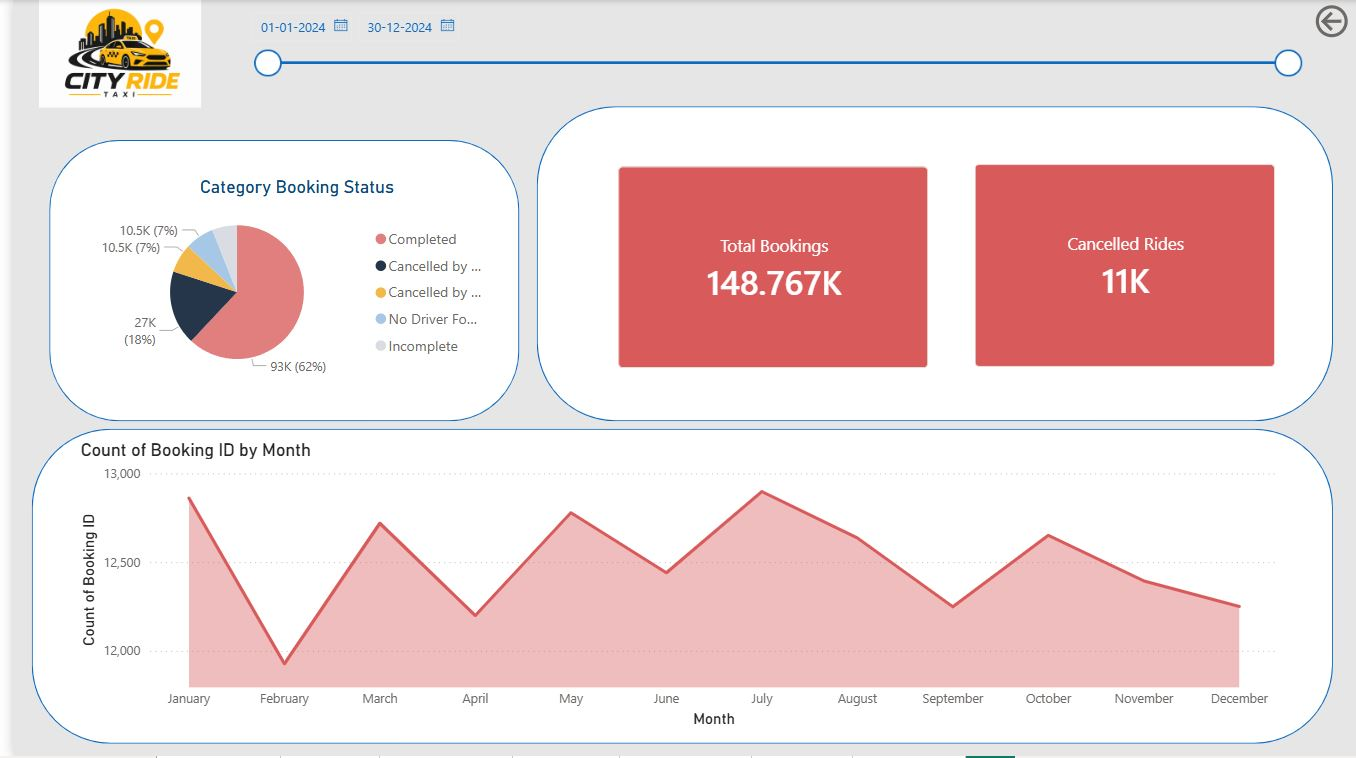

Layout of this report page (visuals, bound fields, positions):
{"tool":"powerbi","page":{"name":"Overall","canvas":[1280,720],"ordinal":1},"visuals":[{"type":"shape","box":[17.9,408.3,1239.3,300],"z":0},{"type":"shape","box":[498.8,101.2,758.3,300],"z":1000},{"type":"shape","box":[34.5,133.3,447.6,267.9],"z":2000},{"type":"pieChart","title":"Category Booking Status","fields":{"Category":["rideBookings.Booking Status"],"Y":["CountNonNull(rideBookings.Booking Status)"]},"box":[66.7,158.3,406,220.2],"z":3000},{"type":"areaChart","fields":{"Category":["rideBookings.Date.Variation.Date Hierarchy.Month"],"Y":["CountNonNull(rideBookings.Booking ID)"]},"box":[59.5,417.9,1150,279.8],"z":4000},{"type":"cardVisual","fields":{"Data":["Count(rideBookings.Booking ID)"]},"box":[559.5,141.7,329.8,226.2],"z":5000},{"type":"slicer","fields":{"Values":["rideBookings.Date"]},"box":[214.3,0,1021.4,102.4],"z":6000},{"type":"image","box":[2.4,0,199.1,102.5],"z":7000},{"type":"cardVisual","fields":{"Data":["Sum(rideBookings.Cancelled Rides by Customer)"]},"box":[897.6,138.1,322.6,229.8],"z":8000},{"type":"actionButton","box":[1235.7,0,44,40.5],"z":9000}]}

Visuals, with their boxes in screenshot pixels (x1, y1, x2, y2), scaled from the page's 1280x720 canvas onto the 1356x758 screenshot:
shape: box(19, 430, 1332, 746)
shape: box(528, 107, 1332, 422)
shape: box(37, 140, 511, 422)
"Category Booking Status" pieChart: box(71, 167, 501, 398)
areaChart - rideBookings.Date.Variation.Date Hierarchy.Month x CountNonNull(rideBookings.Booking ID): box(63, 440, 1281, 735)
cardVisual - Count(rideBookings.Booking ID): box(593, 149, 942, 387)
slicer - rideBookings.Date: box(227, 0, 1309, 108)
image: box(3, 0, 213, 108)
cardVisual - Sum(rideBookings.Cancelled Rides by Customer): box(951, 145, 1293, 387)
actionButton: box(1309, 0, 1355, 43)
